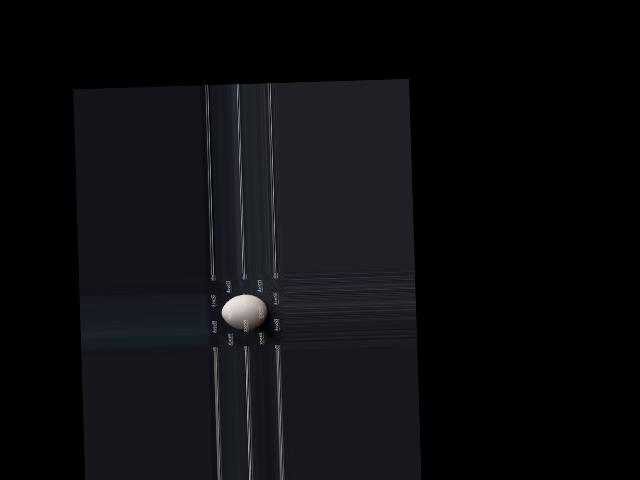egg: (221, 294, 268, 330)
